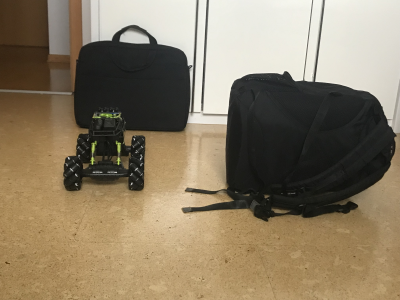remote control car: (60, 105, 148, 193)
